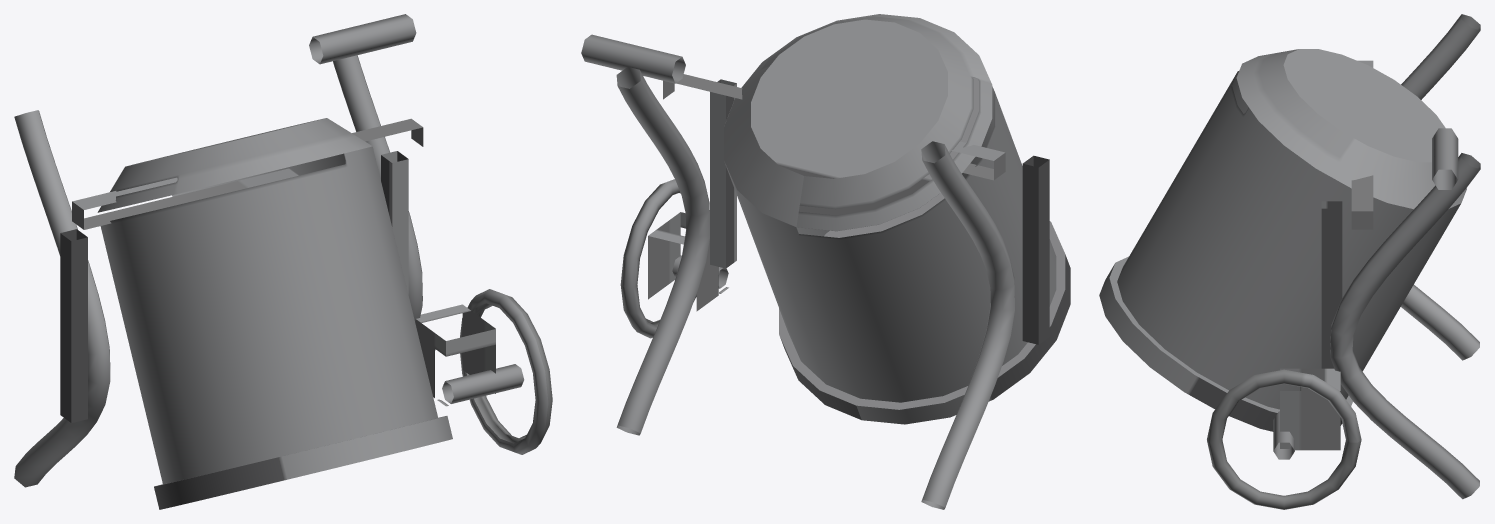
The picture shows the model from 3 angles, left to right: view 1: azimuth 30°, elevation 25°; view 2: azimuth 150°, elevation 25°; view 3: azimuth 270°, elevation 25°; orthographic projection. The views are drawn at different scales.
Size of the model in its own units: 1.03 by 0.9042 by 0.8772.
